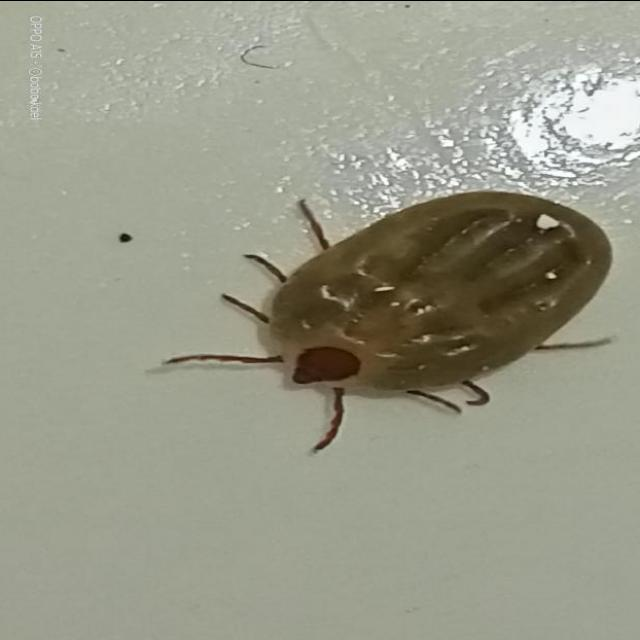Rhipicephalus Sanguineus-F-Fed: (151, 188, 626, 449)
